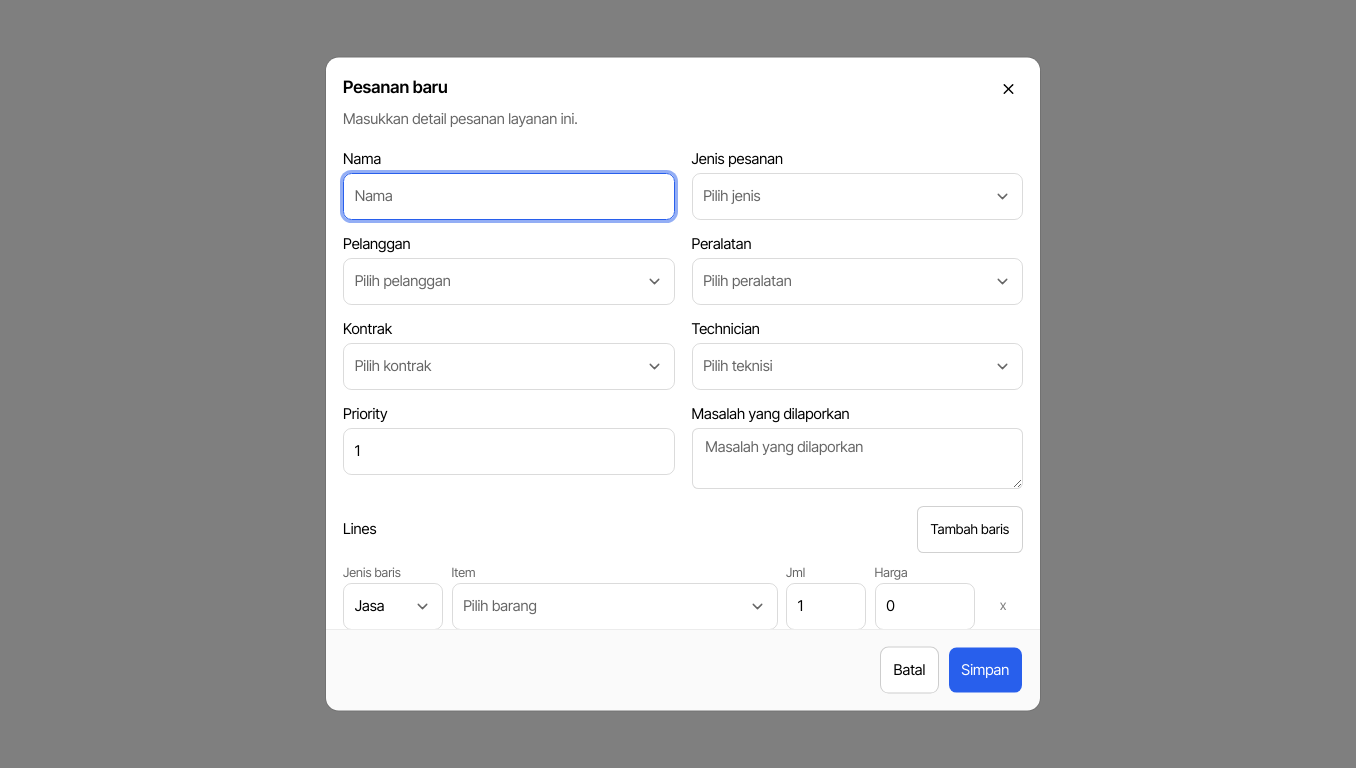
Scenario: ServiceOrderFormDialog branches › adds and removes service lines
The width and height of the screenshot is (1366, 768).
Expected: the heading "Pesanan baru" is shown, [343,75,448,100]
Expected: the button "x" is disabled, [983,582,1023,629]
What coordinates should you click on to do the following:
click the button "Tambah baris"
I would click on:
 (970, 529)
Its box is [917,506,1023,553].
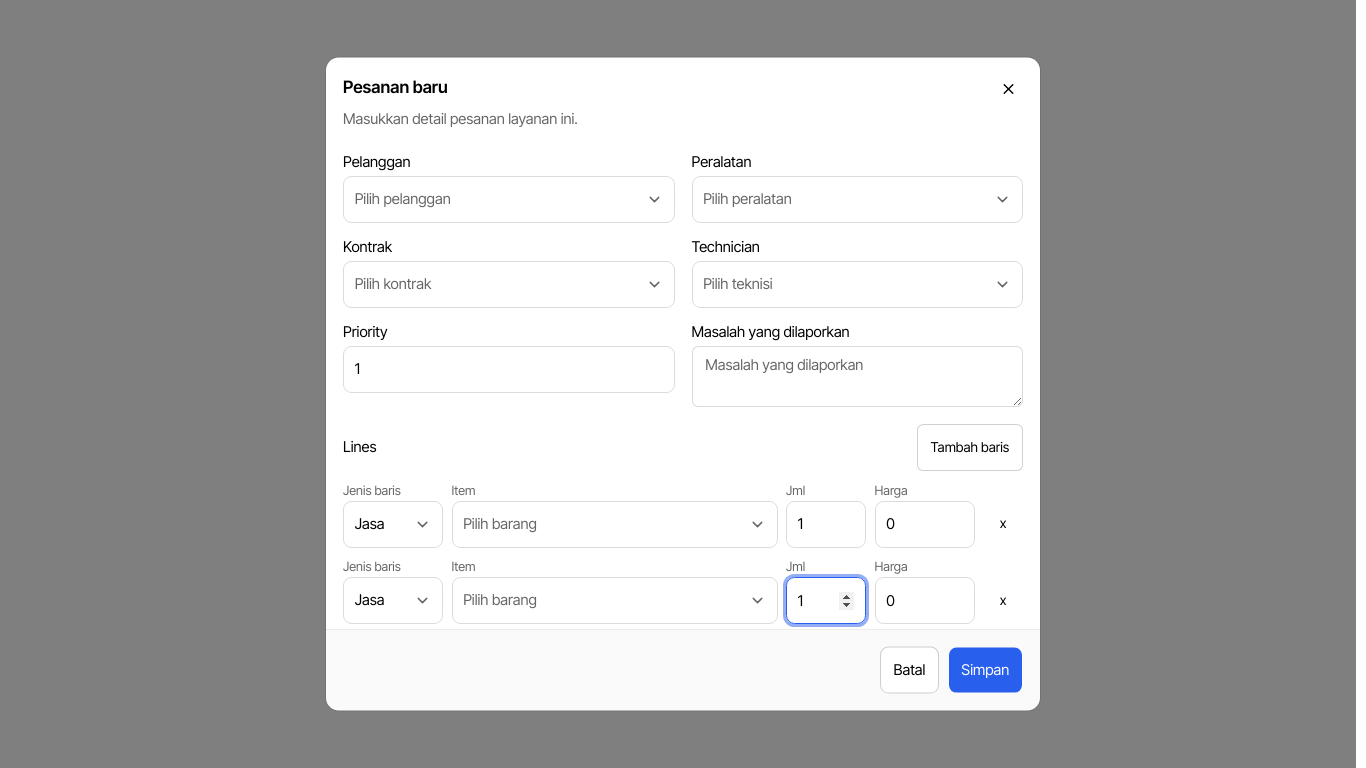
Expected: the number of buttons "x" is 2
Expected: the 1st button "x" is enabled, [983,500,1023,547]
What coordinates should you click on to do the following:
click the 2nd button "x"
I would click on:
 (1003, 600)
Its box is [983,577,1023,624].
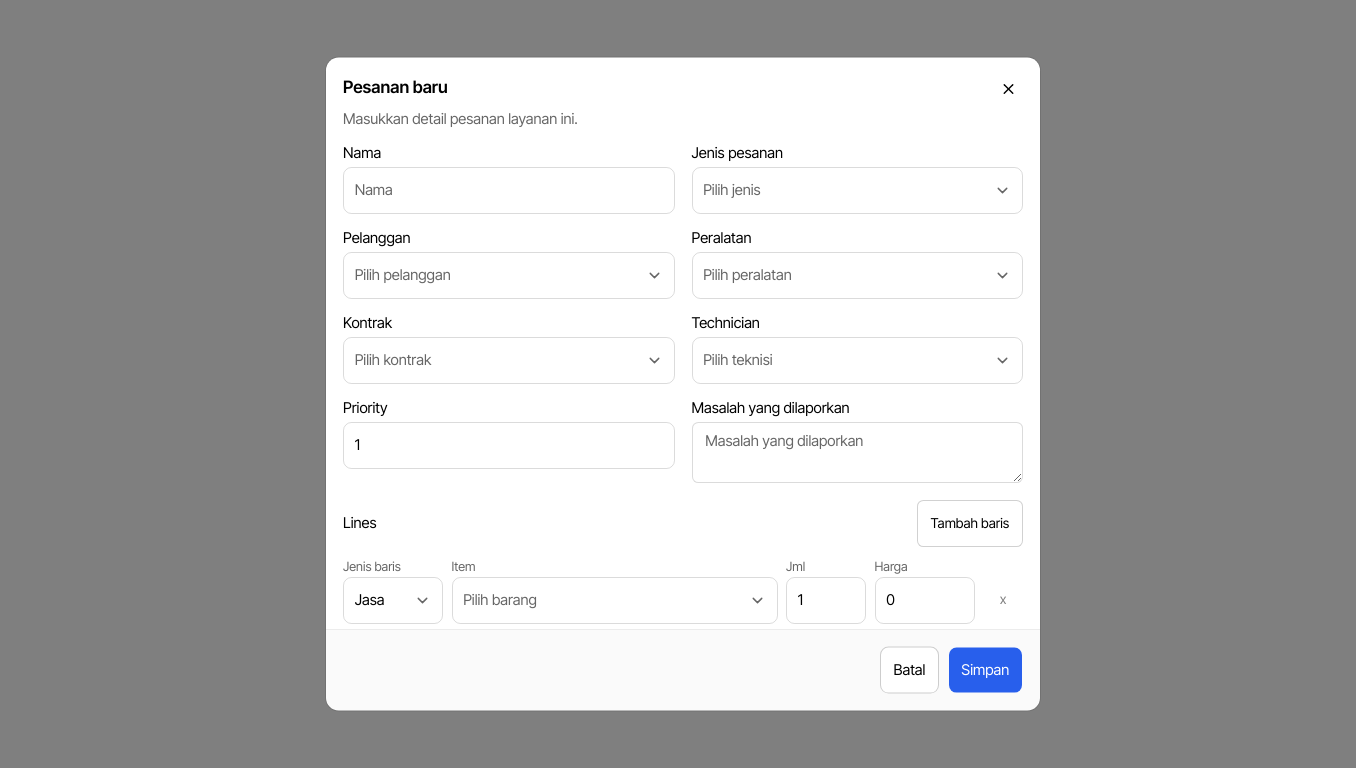
Expected: the number of buttons "x" is 1, [983,576,1023,623]
